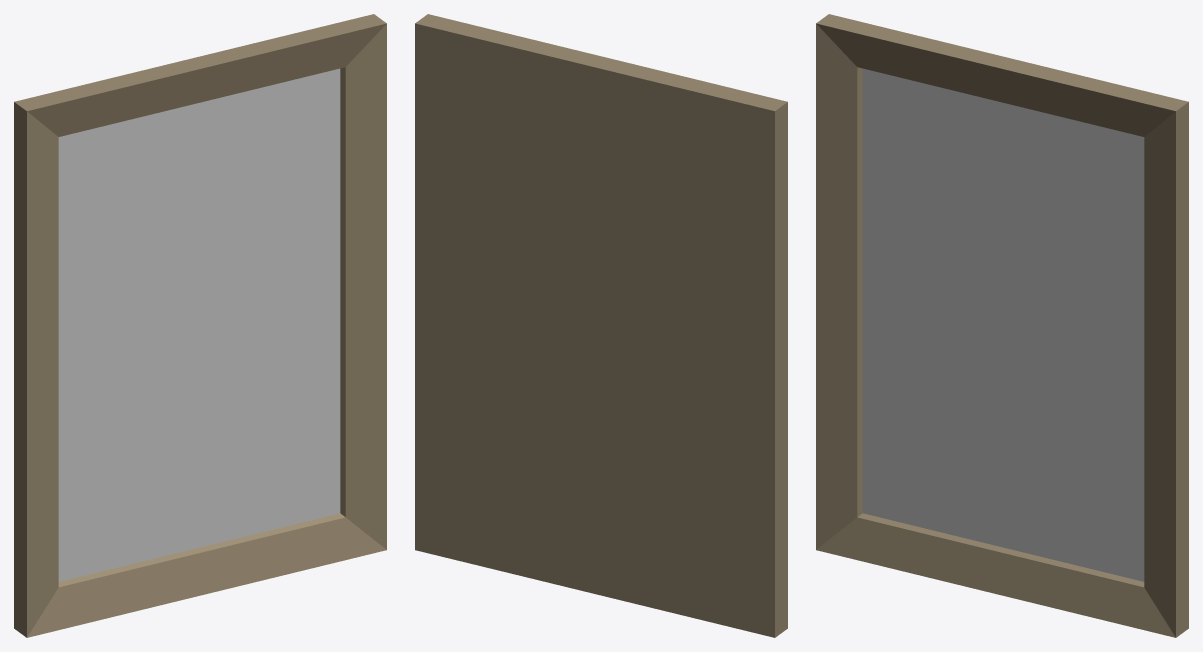
File: frame_tall.fbx
3 views of the same model, side by side, from view 1: azimuth 30°, elevation 25°; view 2: azimuth 150°, elevation 25°; view 3: azimuth 330°, elevation 25° (orthographic).
Parts seen in each view (by area): view 1: Frame; view 2: Frame; view 3: Frame.
Part boxes in pixels (x1,y1,x2,y2): Frame: [14, 14, 386, 637]; Frame: [415, 14, 787, 637]; Frame: [816, 14, 1188, 637].
Bounding box in the file's own units: 24 × 33.55 × 1.49.
